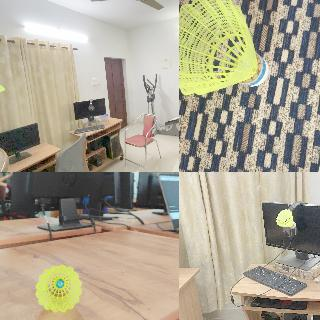shuttlecock: (179, 0, 269, 97), (34, 264, 82, 312), (276, 208, 296, 228), (0, 83, 5, 98)
